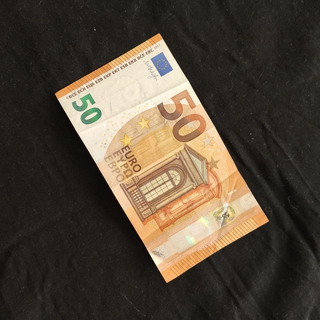50EUROFront: (52, 32, 270, 284)
